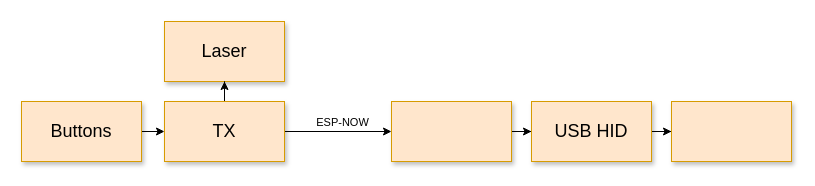
Image size: 815x186. Some labels were removed from this diagram. The shapes that lost their labels are listed below. From the top down, each one's centre as x and y in pixels, then its label:
At (x=452, y=132): "RX".
At (x=732, y=132): "PC".
